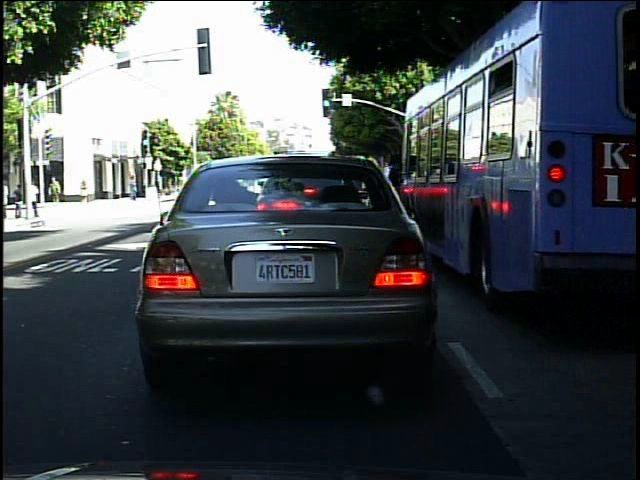person: (76, 171, 94, 209), (48, 172, 67, 206), (125, 170, 143, 204), (12, 179, 26, 221), (30, 174, 43, 218)
